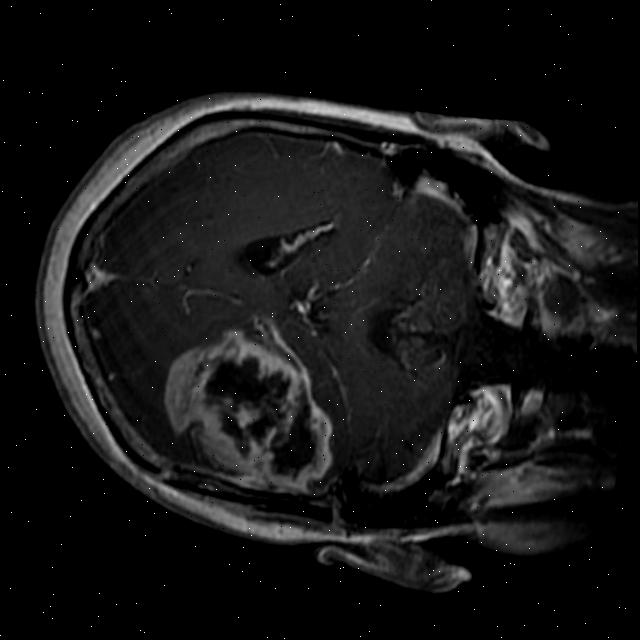Glioma: (149, 313, 353, 501)
